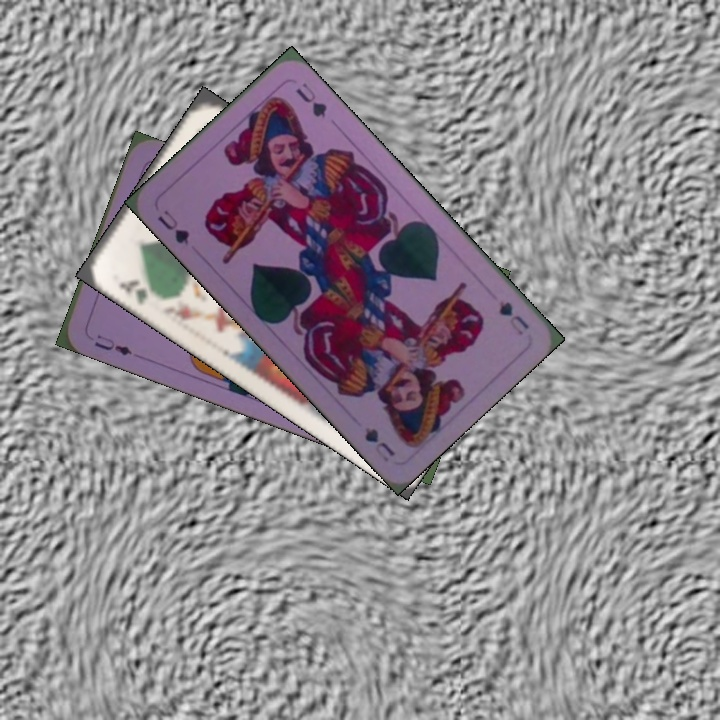EU: (90, 330, 135, 358)
GK: (115, 275, 150, 308)
GU: (153, 205, 192, 248), (494, 297, 532, 338)
